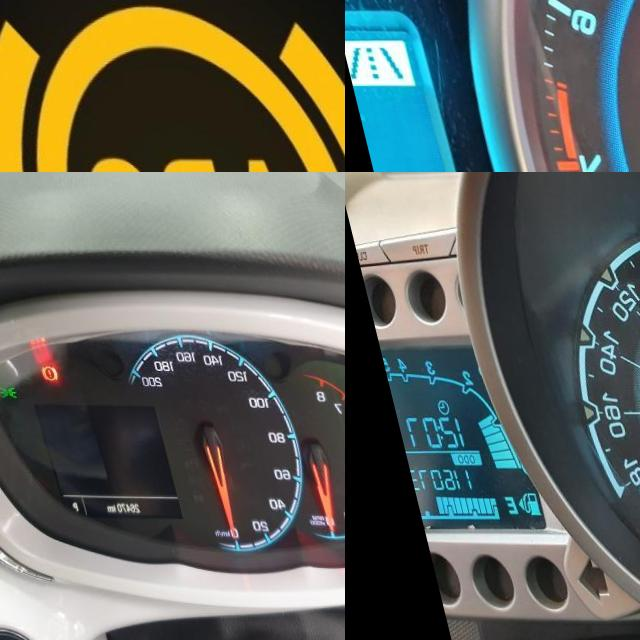SideLamp: (0, 384, 4, 398)
